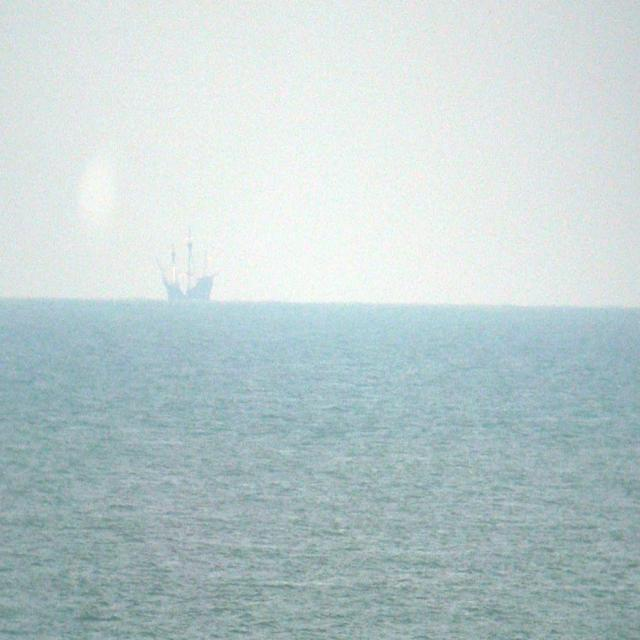fishing boat: (152, 233, 215, 310)
